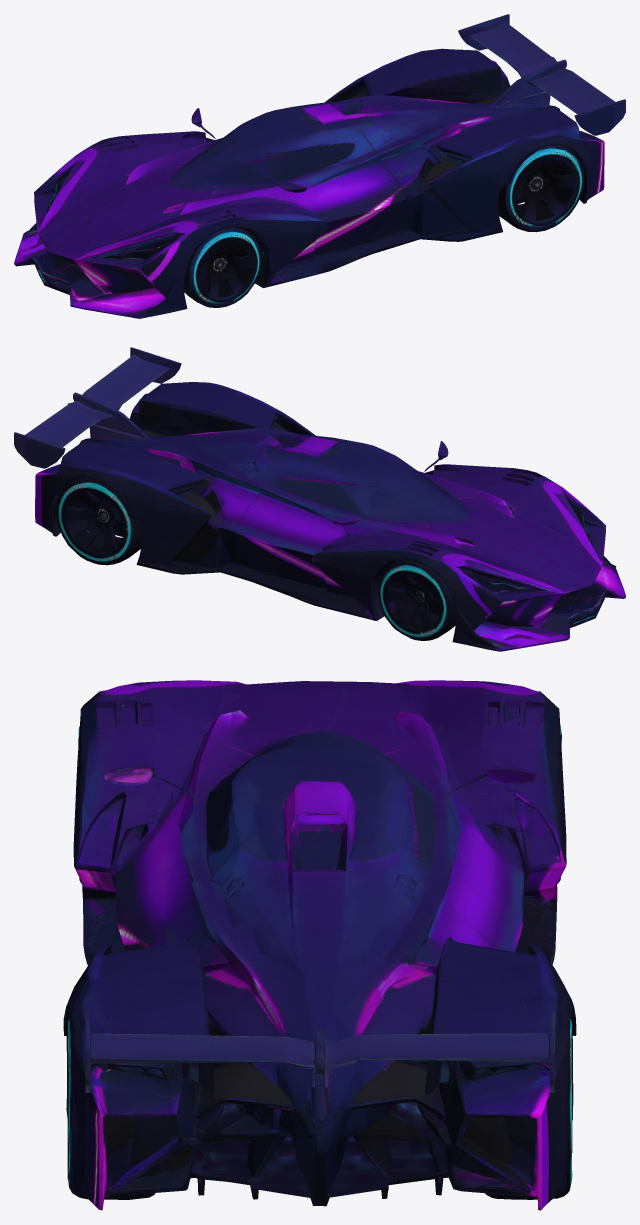
Rendered from car_ravelane.glb.
The picture shows the model from 3 angles, top to bottom: view 1: azimuth 30°, elevation 25°; view 2: azimuth 150°, elevation 25°; view 3: azimuth 270°, elevation 25°; orthographic projection. The views are drawn at different scales.
Size of the model in its own units: 1.9 by 0.4115 by 0.8035.
Materials: 1 (1 with a texture image).
